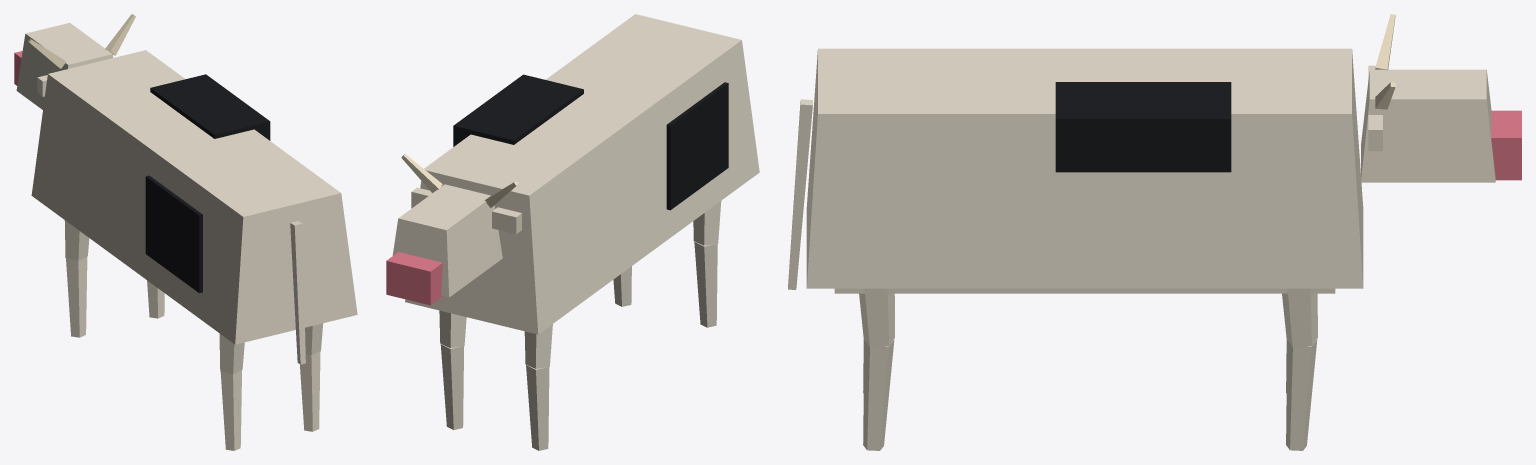
The model's file is ani_cow.glb.
3 views of the same model, side by side, from view 1: azimuth 30°, elevation 25°; view 2: azimuth 150°, elevation 25°; view 3: azimuth 270°, elevation 25° (orthographic). The views are drawn at different scales.
Parts seen in each view (by area): view 1: ani_cow, ani_cow_head, ani_cow_leg_rl, ani_cow_leg_fl, ani_cow_leg_rr, ani_cow_leg_fr; view 2: ani_cow, ani_cow_head, ani_cow_leg_fl, ani_cow_leg_rl, ani_cow_leg_fr, ani_cow_leg_rr; view 3: ani_cow, ani_cow_head, ani_cow_leg_fr, ani_cow_leg_rr.
Boxes of the visible parts, x1,y1,x2,y2 form: ani_cow: (31, 50, 357, 364); ani_cow_head: (14, 14, 135, 109); ani_cow_leg_rl: (219, 334, 244, 450); ani_cow_leg_fl: (64, 220, 89, 337); ani_cow_leg_rr: (300, 323, 323, 431); ani_cow_leg_fr: (147, 280, 164, 318); ani_cow: (405, 14, 759, 334); ani_cow_head: (386, 154, 521, 305); ani_cow_leg_fl: (524, 324, 552, 450); ani_cow_leg_rl: (693, 201, 721, 327); ani_cow_leg_fr: (439, 310, 466, 429); ani_cow_leg_rr: (613, 266, 631, 306); ani_cow: (788, 48, 1363, 293); ani_cow_head: (1361, 14, 1521, 182); ani_cow_leg_fr: (1282, 288, 1317, 450); ani_cow_leg_rr: (859, 288, 894, 450).
Size of the model in its own units: 0.7 by 1.41 by 2.51.
